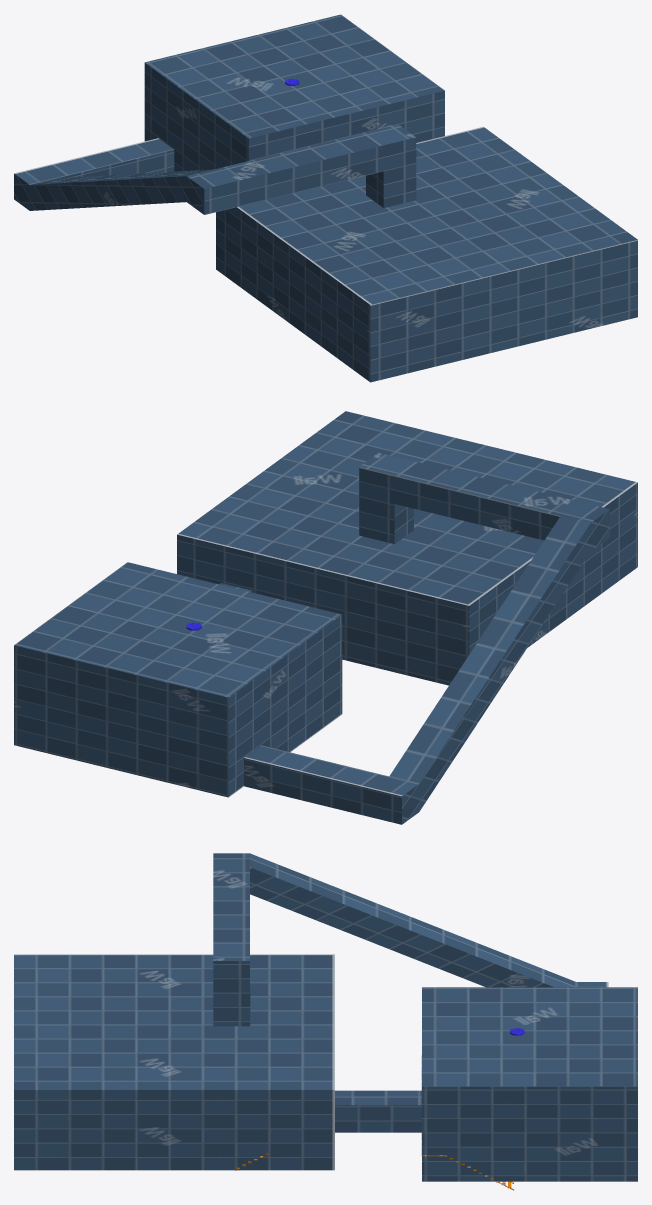
File: test map game.obj
3 views of the same model, one above another, from view 1: azimuth 30°, elevation 25°; view 2: azimuth 150°, elevation 25°; view 3: azimuth 270°, elevation 25° (orthographic). The views are drawn at different scales.
Parts seen in each view (by area): view 1: Cube; view 2: Cube; view 3: Cube.
Part boxes in pixels (bbox=[...]): Cube: bbox=[14, 14, 637, 382]; Cube: bbox=[14, 411, 637, 824]; Cube: bbox=[14, 853, 637, 1181].
Size of the model in its own units: 54.92 by 24.51 by 83.72.
